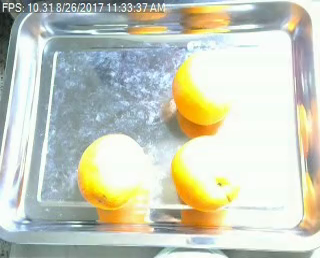Orange: (172, 133, 244, 211), (77, 133, 149, 210), (172, 53, 238, 125)
